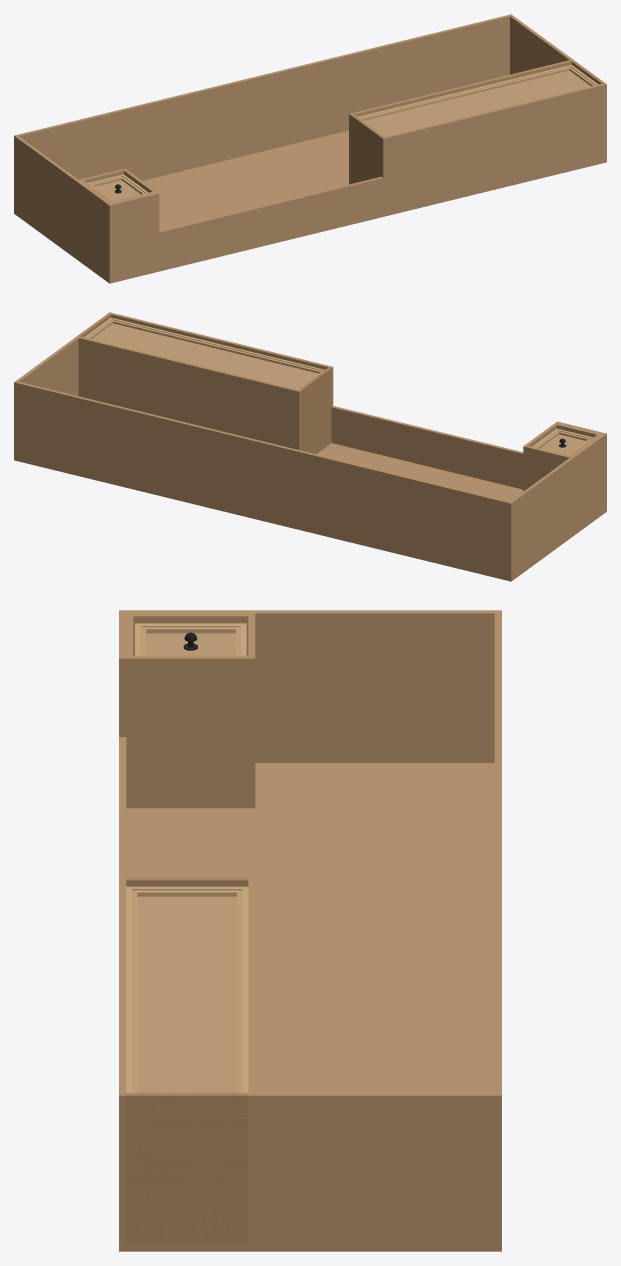
File: toolbox_right_compartment.glb
The picture shows the model from 3 angles, top to bottom: view 1: azimuth 30°, elevation 25°; view 2: azimuth 150°, elevation 25°; view 3: azimuth 270°, elevation 25°; orthographic projection. The views are drawn at different scales.
Bounding box in the file's own units: 1.44 × 0.2204 × 0.4812.
